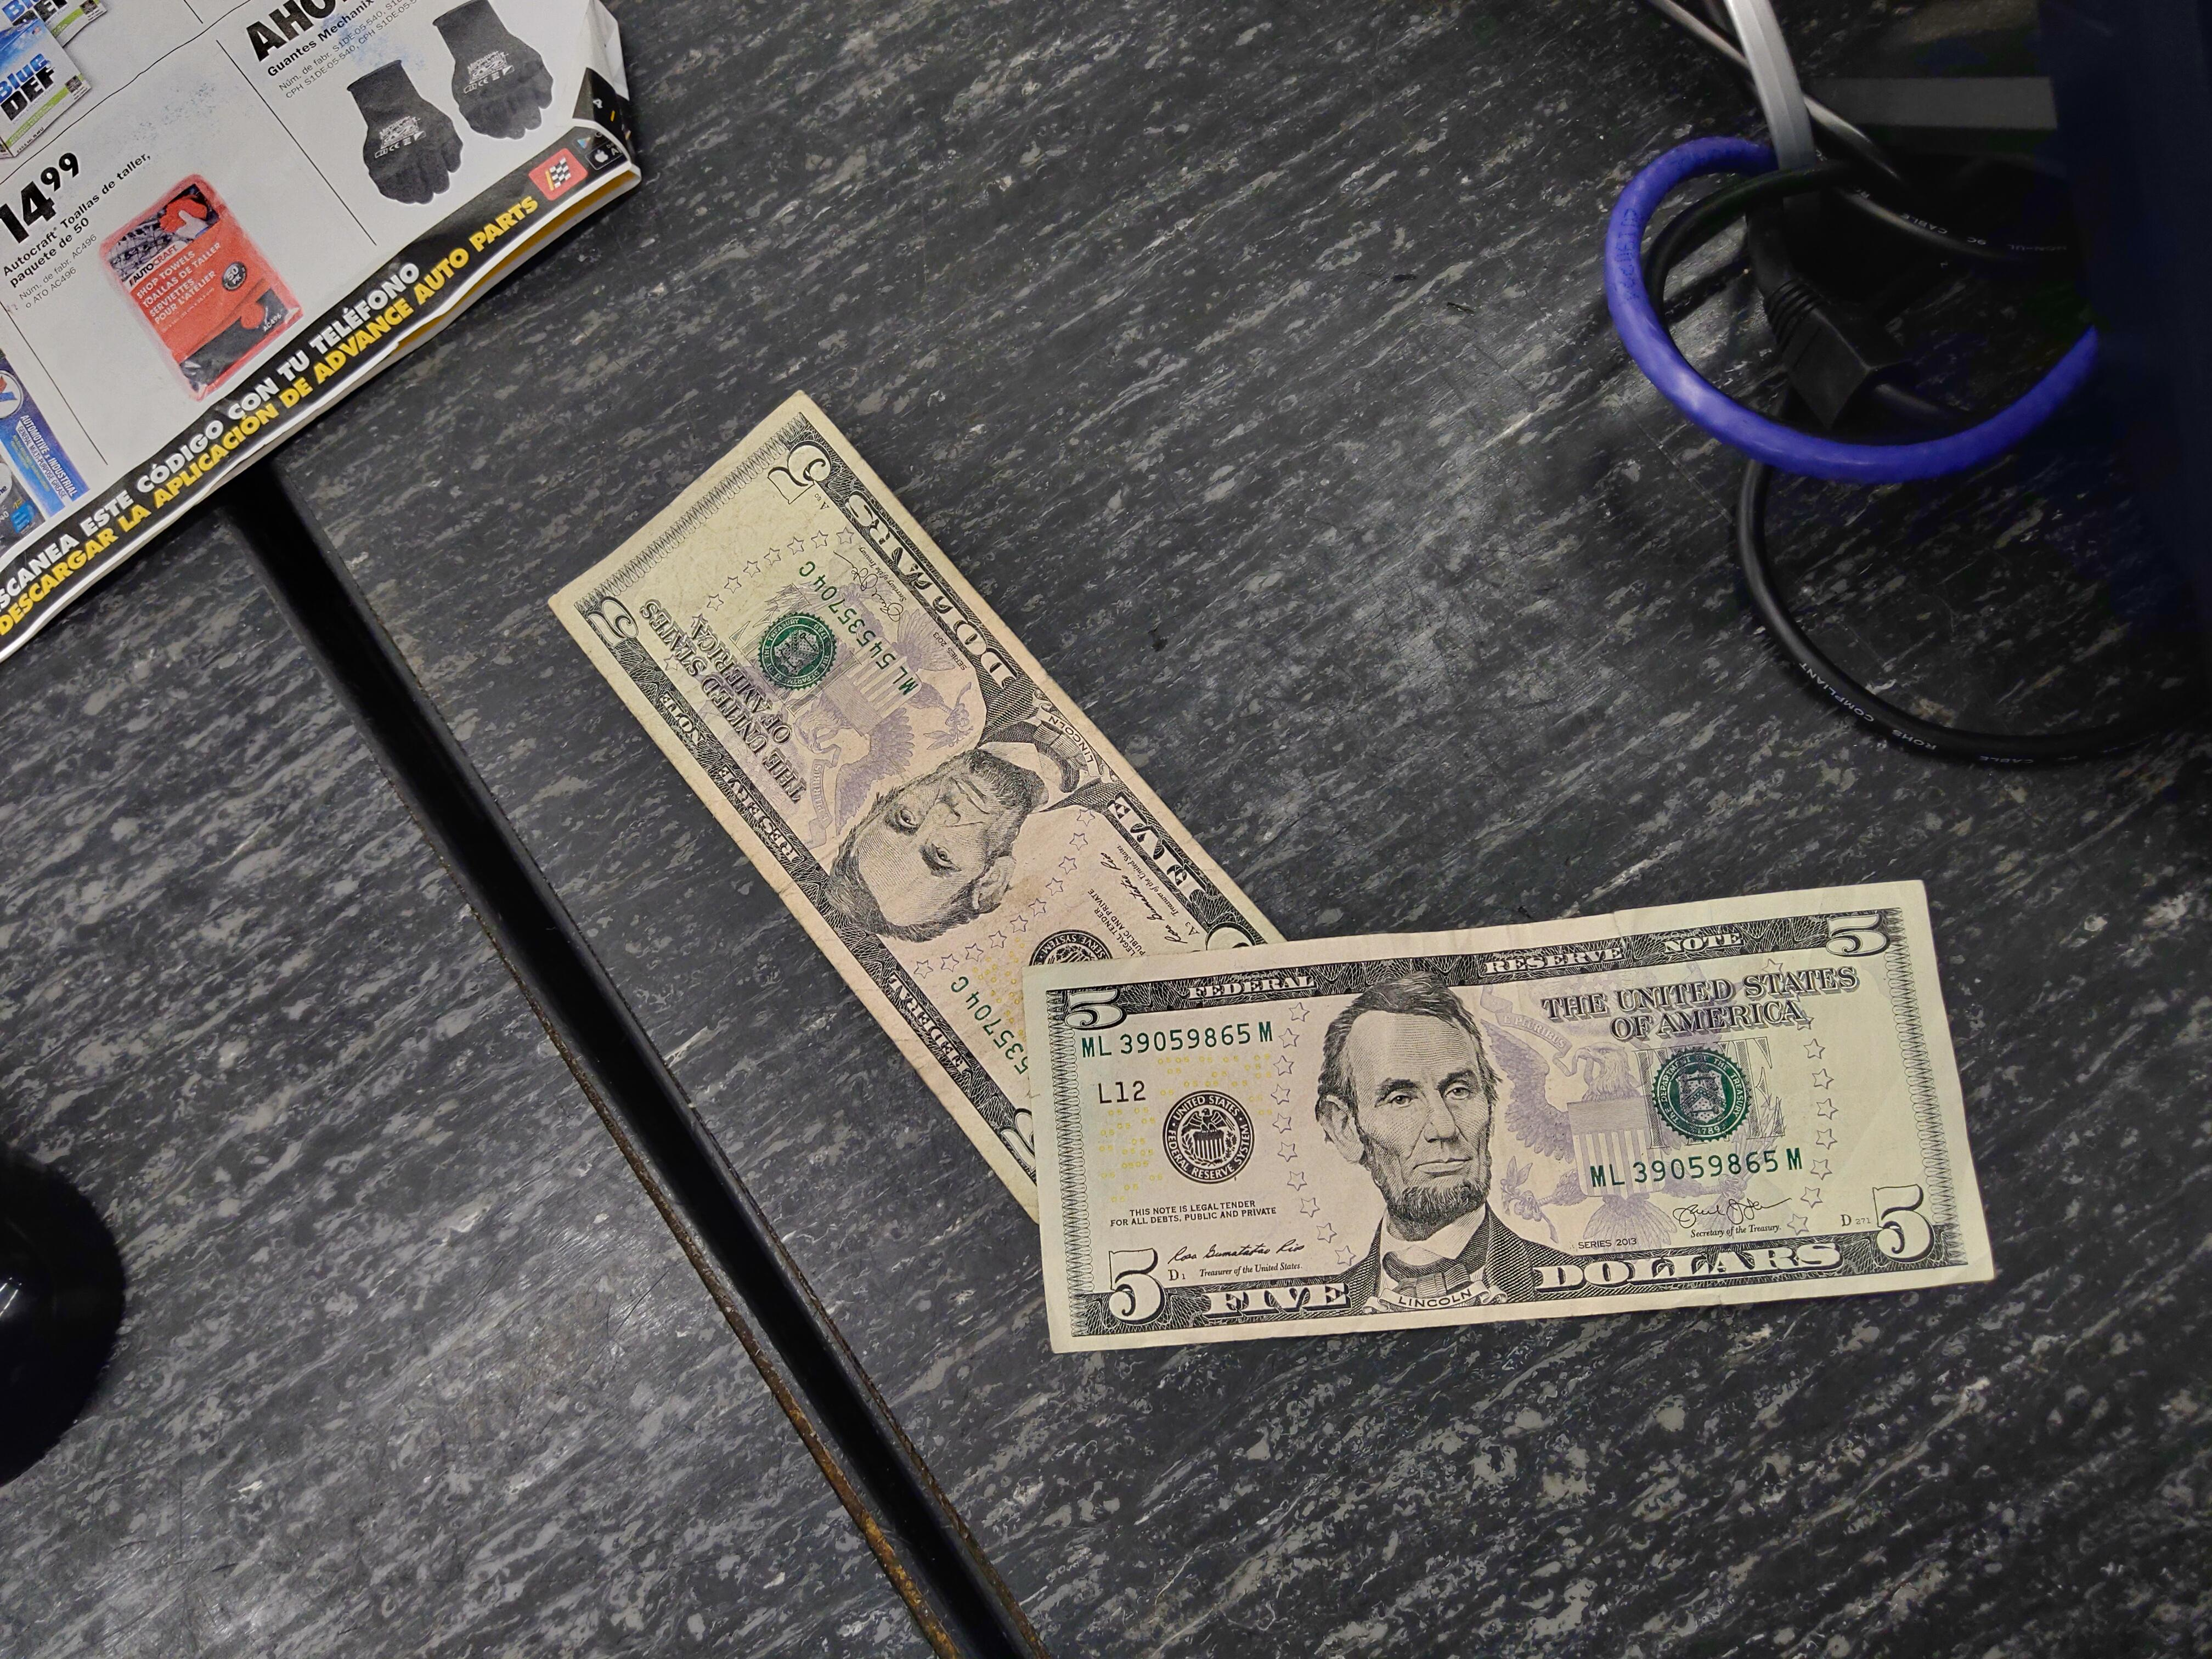FiveBill: (543, 387, 1289, 1223), (1022, 877, 1994, 1358)
